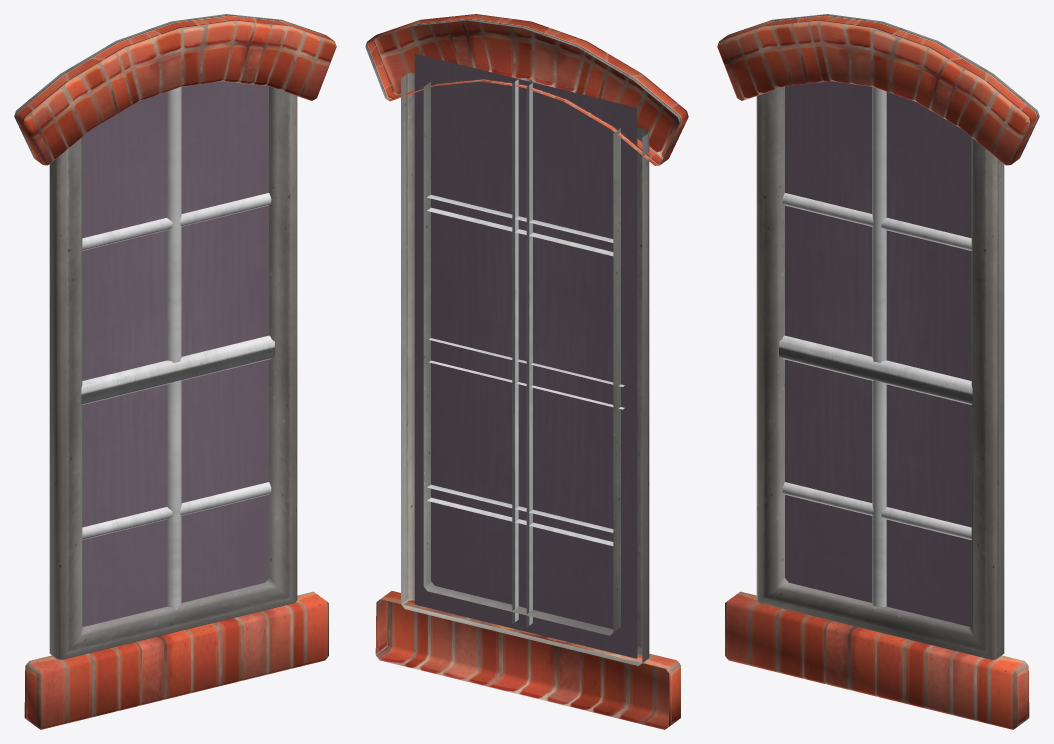
Rendered from SM_Window_01.fbx.
3 renders of one model, left to right at view 1: azimuth 30°, elevation 25°; view 2: azimuth 150°, elevation 25°; view 3: azimuth 330°, elevation 25°, orthographic.
Parts seen in each view (by area): view 1: SM_Window_01; view 2: SM_Window_01; view 3: SM_Window_01.
Part boxes in pixels (box(x1,y1,x2,y2)): SM_Window_01: box(14, 14, 336, 729); SM_Window_01: box(365, 14, 688, 729); SM_Window_01: box(717, 14, 1039, 729).
Size of the model in its own units: 112 by 11.23 by 227.
